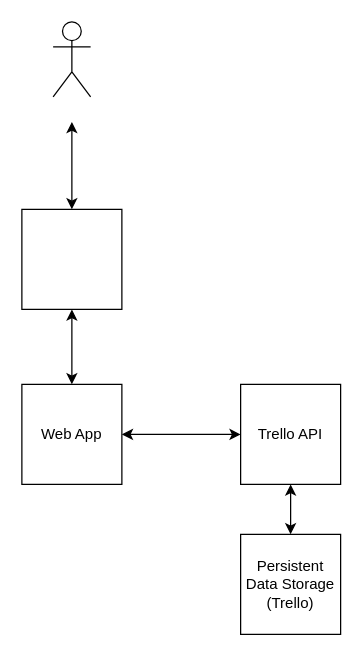
The diagram is 363 pixels wide and 656 high, and some of its shapes have lost their labels. The box of each missing label's shape, as (x1, y1, x2, y2) in pixels:
App User: (52, 21, 91, 97)
Web pages: (21, 208, 122, 309)
